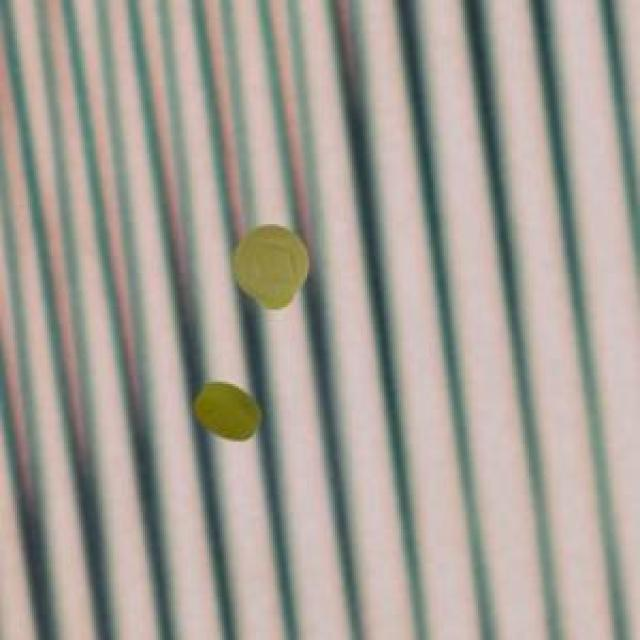Decolgen: (222, 209, 324, 322), (190, 368, 276, 458)
